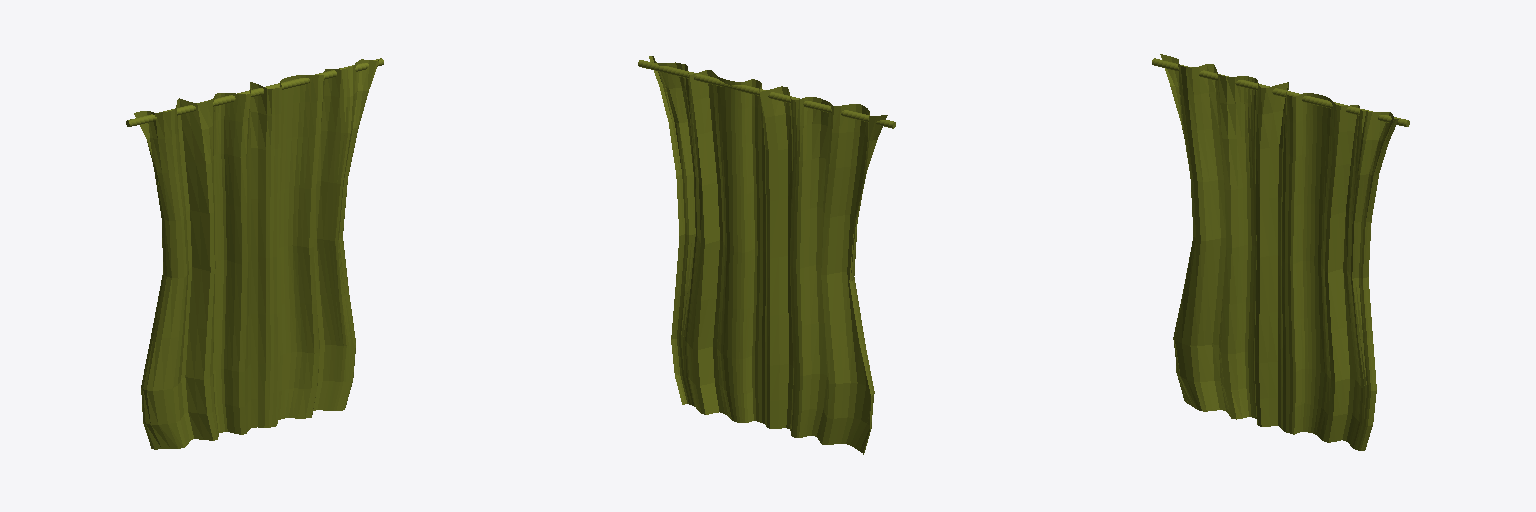
Rendered from Cortina.obj.
The picture shows the model from 3 angles: view 1: azimuth 30°, elevation 25°; view 2: azimuth 150°, elevation 25°; view 3: azimuth 330°, elevation 25°; orthographic projection.
Parts seen in each view (by area): view 1: nurbsToPoly3 group5, group5 pCylinder5; view 2: nurbsToPoly3 group5, group5 pCylinder5; view 3: nurbsToPoly3 group5, group5 pCylinder5.
Boxes of the visible parts, x1=… form: nurbsToPoly3 group5: x1=134, y1=59, x2=378, y2=449; group5 pCylinder5: x1=126, y1=58, x2=383, y2=126; nurbsToPoly3 group5: x1=649, y1=56, x2=887, y2=454; group5 pCylinder5: x1=638, y1=60, x2=895, y2=128; nurbsToPoly3 group5: x1=1160, y1=54, x2=1398, y2=450; group5 pCylinder5: x1=1152, y1=58, x2=1409, y2=126.
Bounding box in the file's own units: 5.47 × 7.05 × 0.5451.